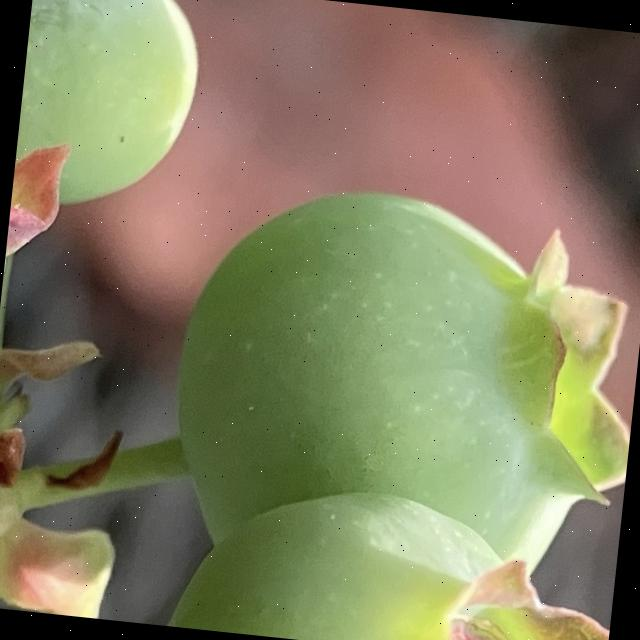Blueberries: (155, 470, 621, 640), (10, 0, 215, 226)
